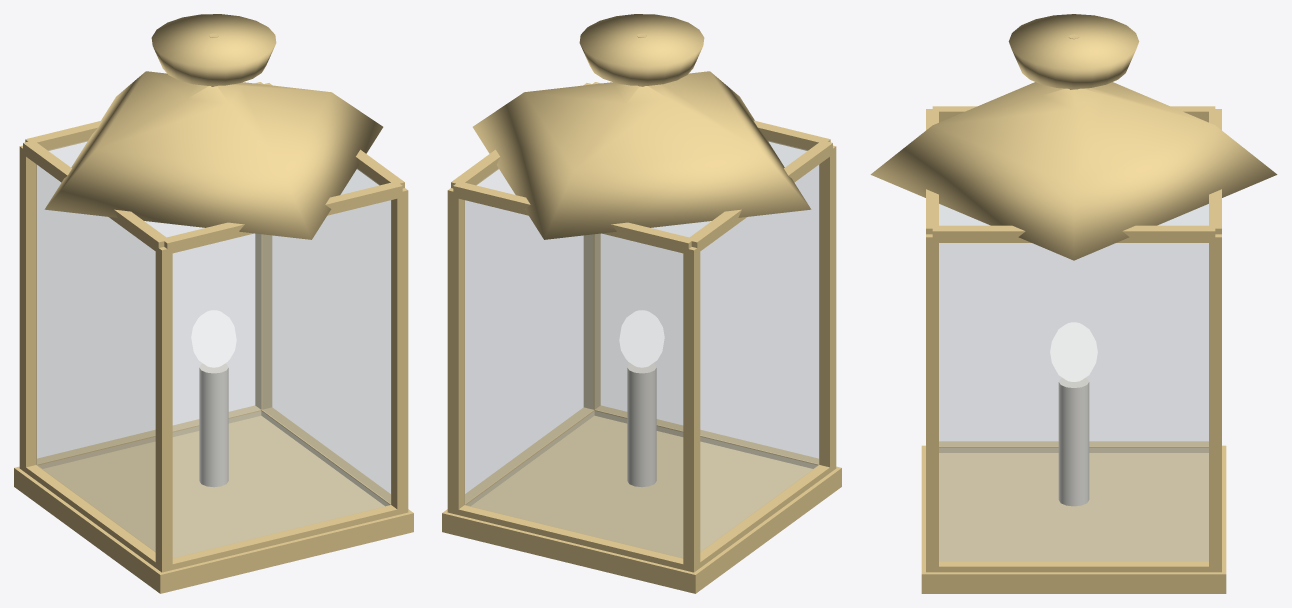
Rendered from lantern.glb.
3 views of the same model, side by side, from view 1: azimuth 30°, elevation 25°; view 2: azimuth 150°, elevation 25°; view 3: azimuth 270°, elevation 25° (orthographic). The views are drawn at different scales.
Parts seen in each view (by area): view 1: glass, cap, base, canopy, post, post.002, post.001, candle, post.003, rail, rail.004, rail.001 (+6 smaller); view 2: glass, cap, base, canopy, post.001, post.003, post, candle, post.002, rail.001, rail.005, rail (+6 smaller); view 3: glass, cap, base, canopy, post.002, post.003, candle, rail.003, rail.007, rail.002, bulb, rail.005 (+2 smaller).
Part boxes in pixels (box(x1,y1,x2,y2)): glass: box(36, 141, 391, 557); cap: box(44, 71, 383, 239); base: box(14, 416, 413, 593); canopy: box(151, 14, 276, 85); post: box(155, 246, 172, 572); post.002: box(391, 188, 408, 514); post.001: box(19, 145, 36, 472); candle: box(199, 363, 228, 487); post.003: box(255, 233, 272, 409); rail: box(167, 505, 402, 570); rail.004: box(161, 183, 402, 254); rail.001: box(37, 405, 261, 468); glass: box(464, 141, 819, 557); cap: box(472, 71, 811, 239); base: box(442, 416, 841, 593); canopy: box(579, 14, 704, 85); post.001: box(683, 247, 700, 572); post.003: box(447, 188, 464, 514); post: box(819, 145, 836, 470); candle: box(627, 363, 656, 487); post.002: box(583, 233, 600, 409); rail.001: box(453, 505, 688, 570); rail.005: box(453, 181, 694, 254); rail: box(594, 405, 818, 468); glass: box(939, 204, 1208, 560); cap: box(870, 82, 1277, 260); base: box(921, 445, 1226, 593); canopy: box(1008, 14, 1139, 89); post.002: box(926, 234, 938, 572); post.003: box(1209, 234, 1221, 572); candle: box(1058, 378, 1089, 506); rail.003: box(932, 561, 1215, 572); rail.007: box(932, 225, 1215, 242); rail.002: box(939, 441, 1208, 452); bulb: box(1050, 322, 1097, 381); rail.005: box(1209, 109, 1221, 234).
Bounding box in the file's own units: 0.3744 × 0.5 × 0.3744.
